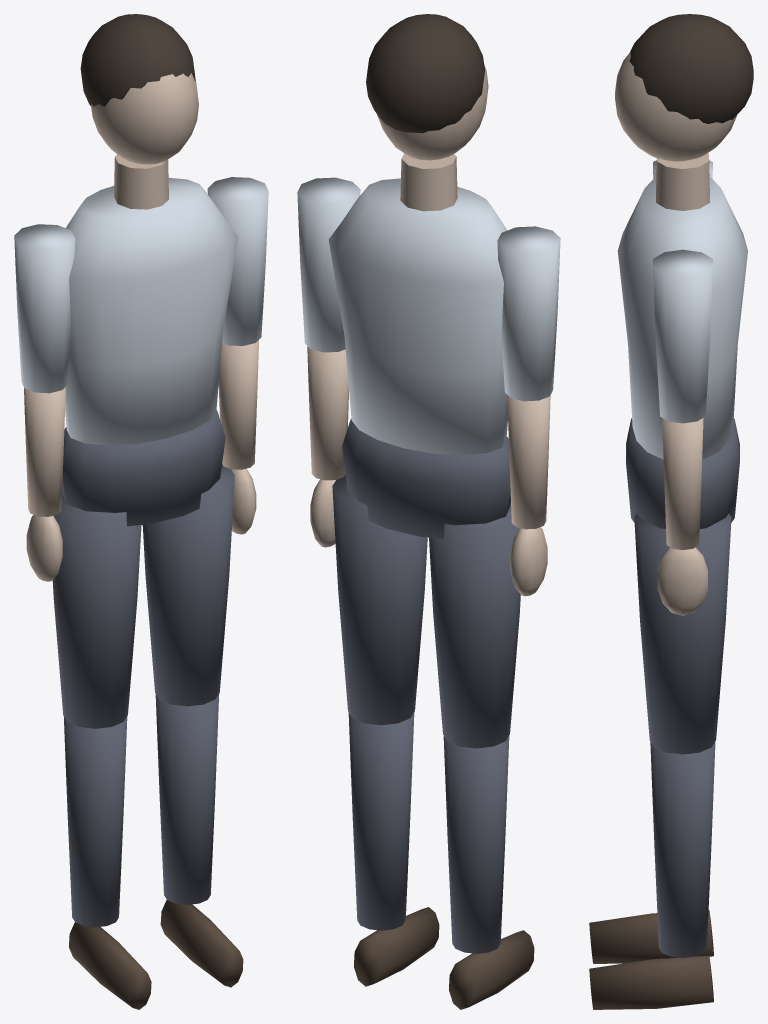
File: mannequin.glb
3 renders of one model, left to right at view 1: azimuth 30°, elevation 25°; view 2: azimuth 150°, elevation 25°; view 3: azimuth 270°, elevation 25°, orthographic. The views are drawn at different scales.
Visible parts, largest first — view 1: Torso, ThighMesh_R, ThighMesh_L, Pelvis, ShinMesh_R, ShinMesh_L, UpperArmMesh_R, HairMesh, HeadMesh, UpperArmMesh_L, LowerArmMesh_R, LowerArmMesh_L (+5 smaller); view 2: Torso, ThighMesh_R, ThighMesh_L, Pelvis, ShinMesh_R, ShinMesh_L, HairMesh, UpperArmMesh_R, UpperArmMesh_L, LowerArmMesh_R, LowerArmMesh_L, Shoe_L (+5 smaller); view 3: Torso, ThighMesh_L, ShinMesh_L, HairMesh, UpperArmMesh_L, Shoe_L, Pelvis, HeadMesh, LowerArmMesh_L, Shoe_R, HandMesh_L, NeckMesh.
Part boxes in pixels (bbox=[...]): Torso: bbox=[65, 178, 238, 445]; ThighMesh_R: bbox=[52, 492, 141, 728]; ThighMesh_L: bbox=[142, 464, 234, 706]; Pelvis: bbox=[62, 410, 225, 526]; ShinMesh_R: bbox=[63, 716, 127, 927]; ShinMesh_L: bbox=[155, 694, 218, 904]; UpperArmMesh_R: bbox=[14, 224, 75, 393]; HairMesh: bbox=[80, 14, 195, 106]; HeadMesh: bbox=[91, 73, 198, 164]; UpperArmMesh_L: bbox=[207, 177, 268, 345]; LowerArmMesh_R: bbox=[24, 387, 65, 516]; LowerArmMesh_L: bbox=[218, 340, 258, 469]; Torso: bbox=[328, 178, 507, 455]; ThighMesh_R: bbox=[429, 503, 520, 748]; ThighMesh_L: bbox=[332, 474, 427, 725]; Pelvis: bbox=[342, 418, 510, 538]; ShinMesh_R: bbox=[443, 736, 509, 953]; ShinMesh_L: bbox=[348, 712, 414, 930]; HairMesh: bbox=[366, 14, 484, 133]; UpperArmMesh_R: bbox=[497, 226, 560, 401]; UpperArmMesh_L: bbox=[297, 177, 360, 352]; LowerArmMesh_R: bbox=[507, 395, 550, 529]; LowerArmMesh_L: bbox=[307, 346, 348, 480]; Shoe_L: bbox=[354, 907, 439, 986]; Torso: bbox=[617, 177, 747, 459]; ThighMesh_L: bbox=[634, 513, 731, 754]; ShinMesh_L: bbox=[650, 742, 715, 957]; HairMesh: bbox=[629, 14, 753, 123]; UpperArmMesh_L: bbox=[653, 249, 712, 423]; Shoe_L: bbox=[589, 955, 713, 1009]; Pelvis: bbox=[626, 418, 739, 528]; HeadMesh: bbox=[615, 52, 736, 161]; LowerArmMesh_L: bbox=[662, 418, 703, 549]; Shoe_R: bbox=[589, 910, 713, 963]; HandMesh_L: bbox=[657, 547, 707, 615]; NeckMesh: bbox=[656, 153, 709, 210].
Bounding box in the file's own units: 0.51 × 1.87 × 0.2873.
